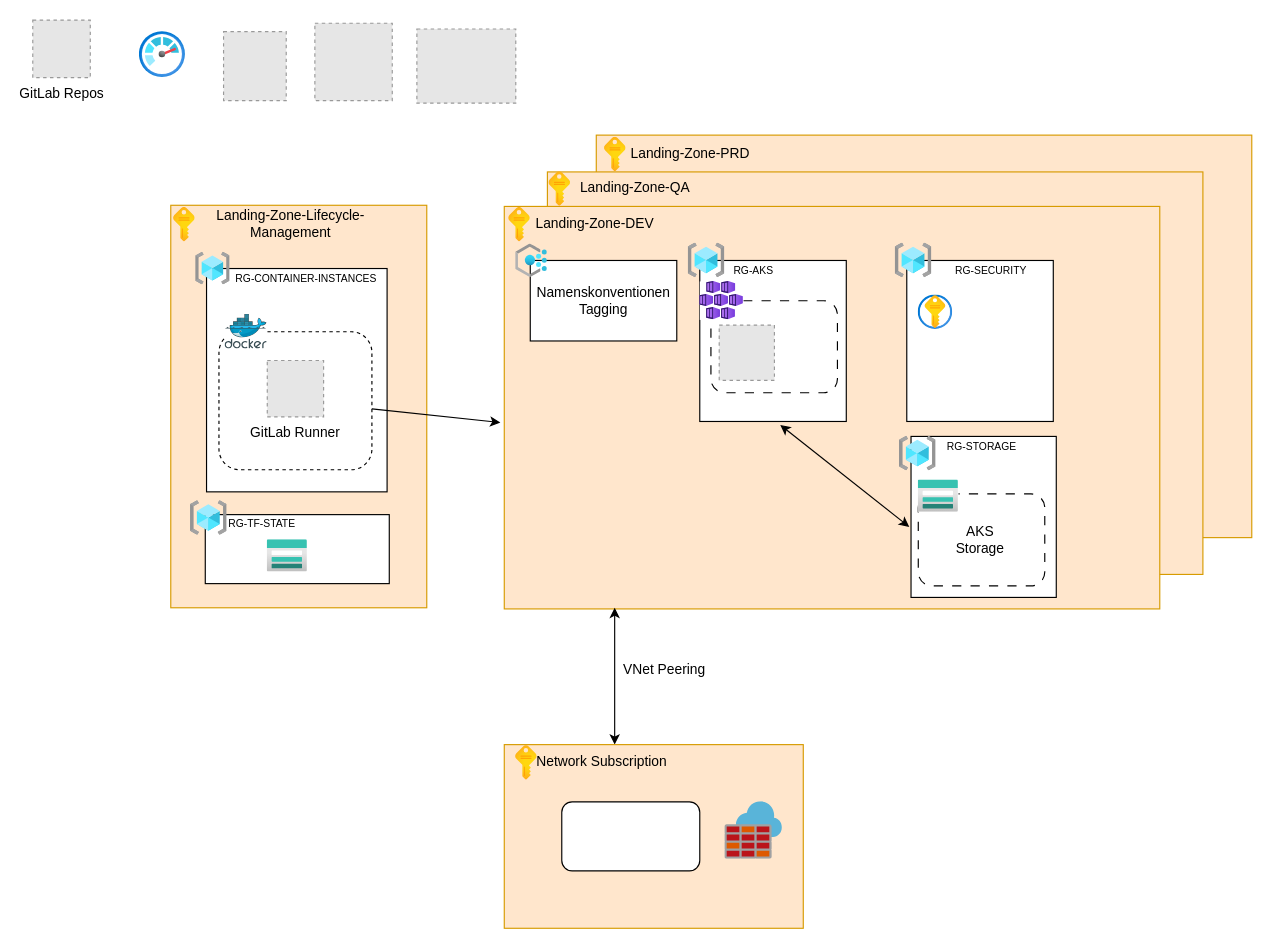
Image size: 1272x949. Some labels were removed from this diagram. Grey dashed boxes stand in for pictures. Here are the shapes that lost their labels. From the top down, the centre of each, then its label:
pixel 162 54: Azure Monitor
pixel 630 836: Hub
